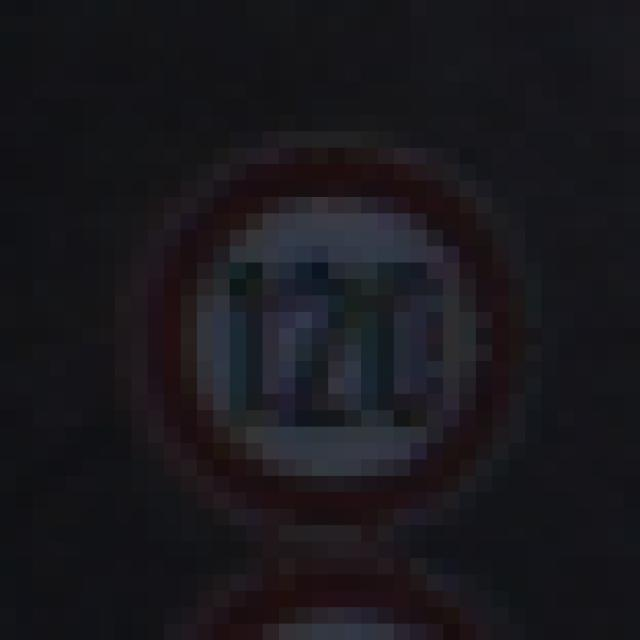Ograniczenie predkosci do 120: (150, 151, 514, 528)
